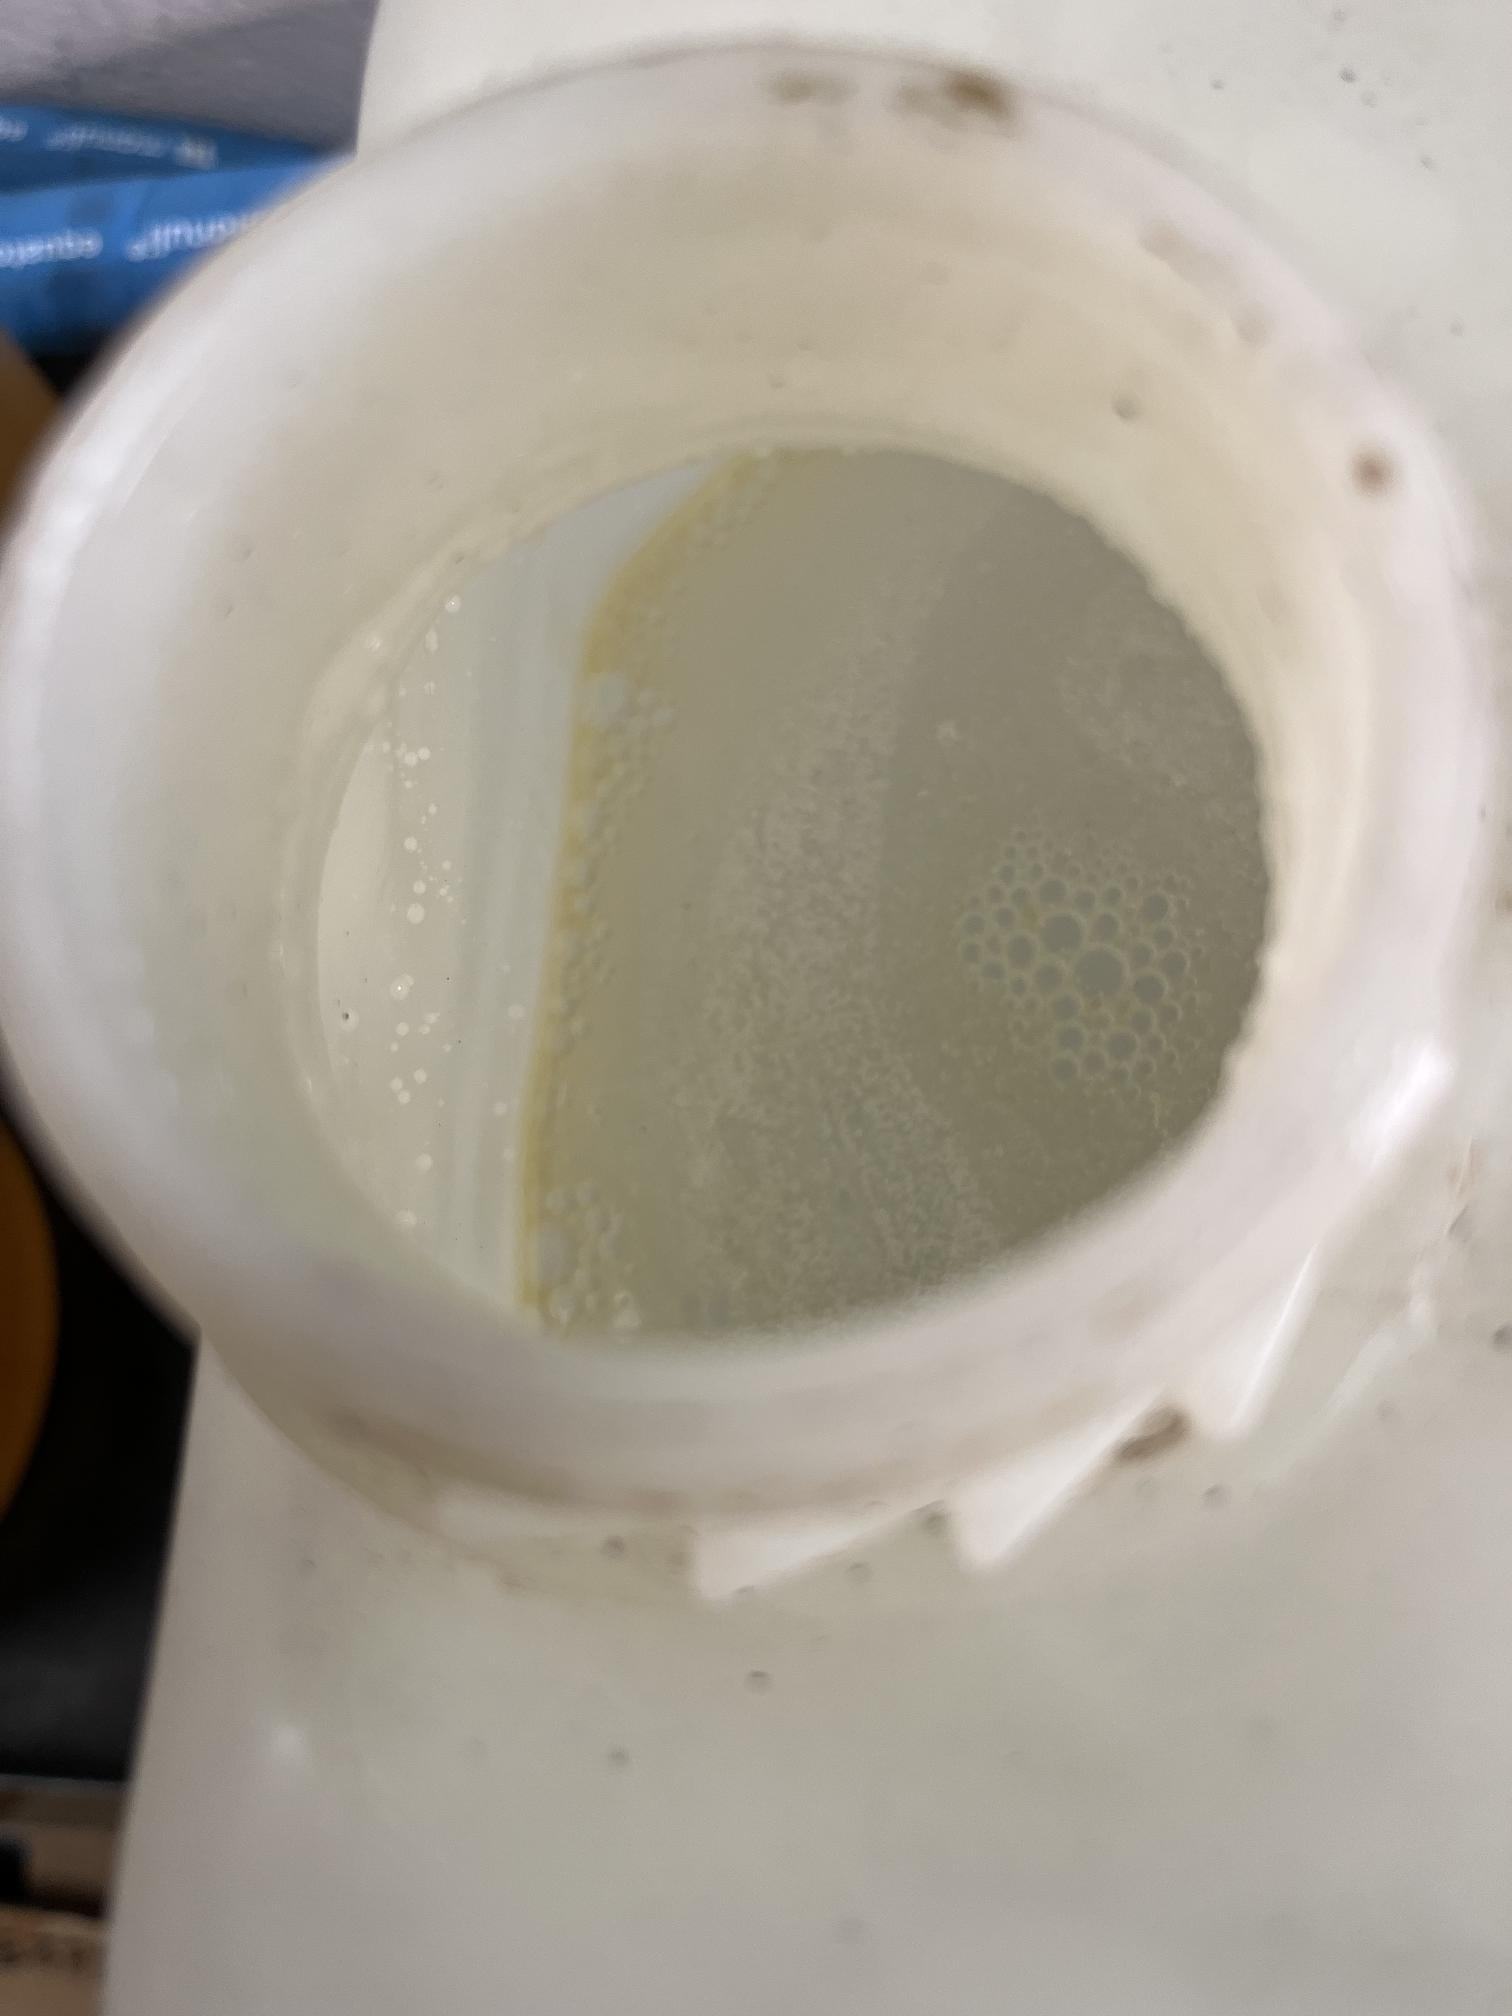Presenca de Oleo - - 30ml: (270, 310, 1355, 1440)
